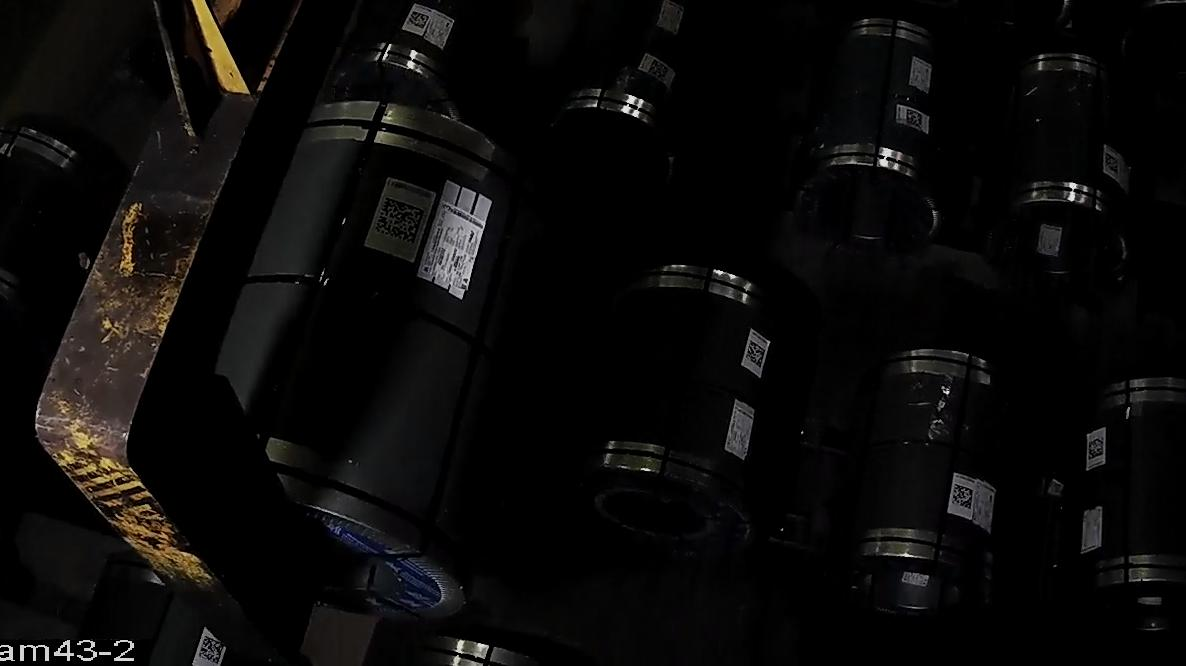data matrix: (369, 193, 430, 251), (196, 636, 229, 666), (744, 337, 769, 370), (950, 482, 976, 512), (645, 57, 673, 84), (404, 10, 433, 32), (1086, 435, 1109, 462), (1104, 150, 1124, 180), (905, 108, 926, 133)
